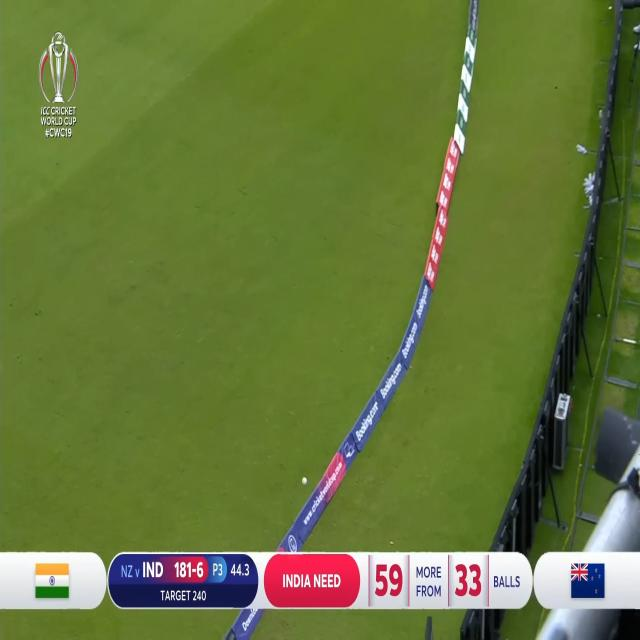ball: (297, 472, 311, 490)
